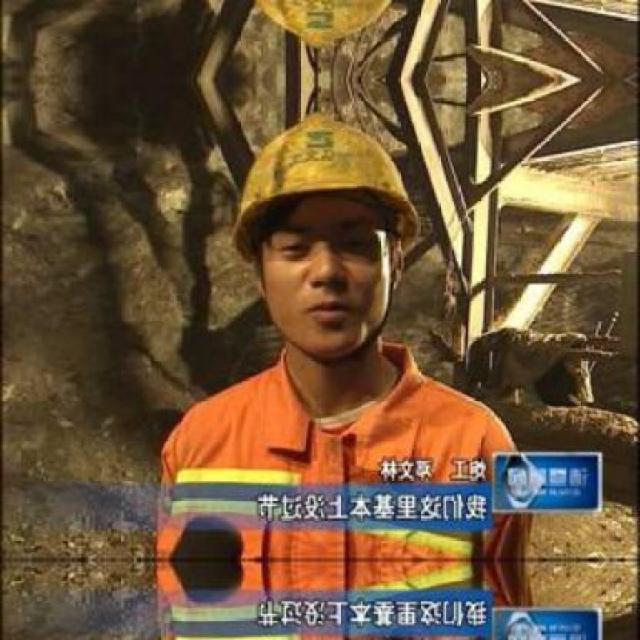Reflective-Jacket: (131, 351, 537, 575)
Safety-Helmet: (214, 108, 435, 254)
